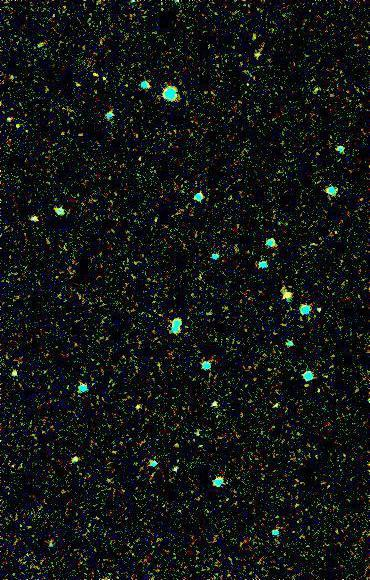star: (125, 392, 155, 422)
